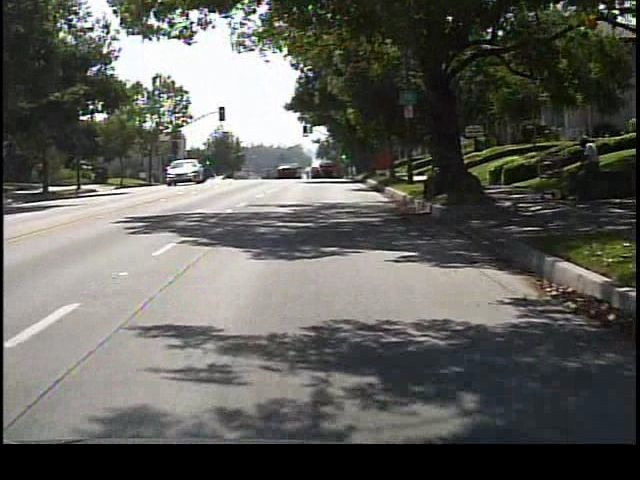person: (572, 132, 605, 209)
